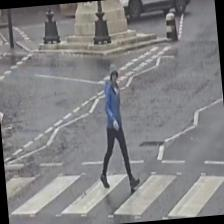person: (90, 62, 140, 193)
